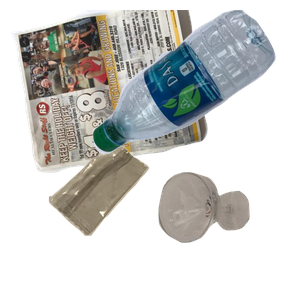glass: (156, 170, 300, 300)
paper: (10, 10, 210, 175)
plastic: (90, 10, 300, 156)
trash: (46, 144, 188, 300)
